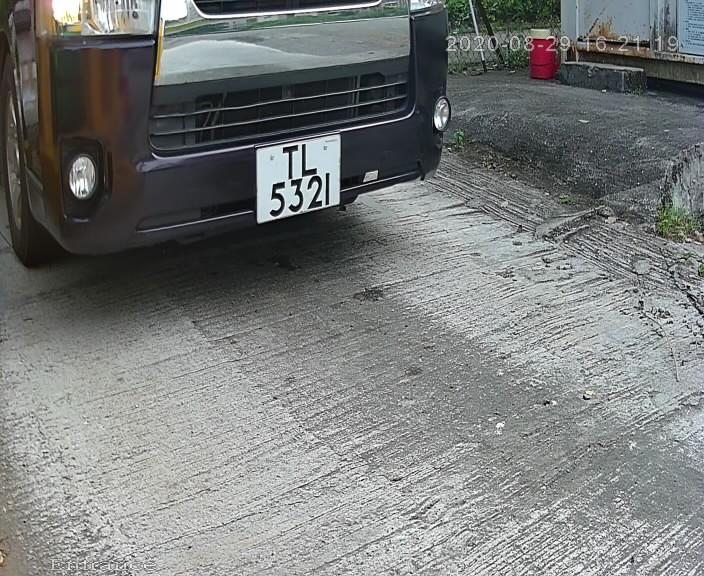License Plate: (243, 129, 349, 227)
